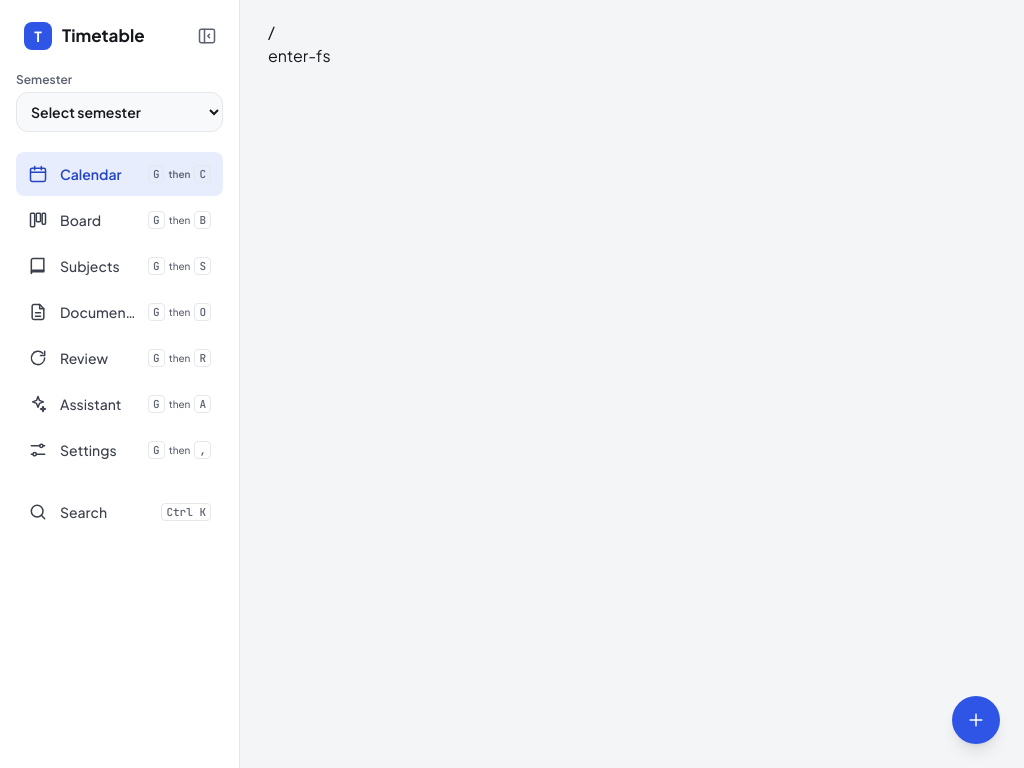
Scenario: quick-action button › Search opens the palette
The width and height of the screenshot is (1024, 768).
Click the button named "Quick actions": x=976, y=720 [952, 696, 1000, 744]
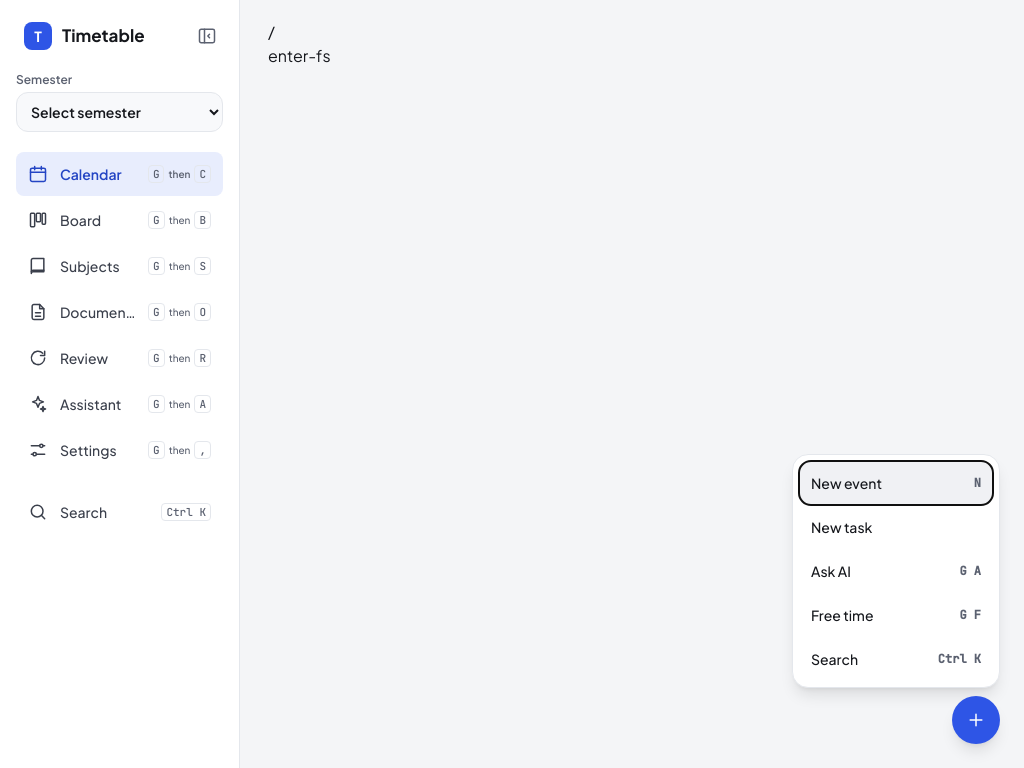
Click the menu item "Search Ctrl K": x=896, y=659 [799, 637, 993, 681]
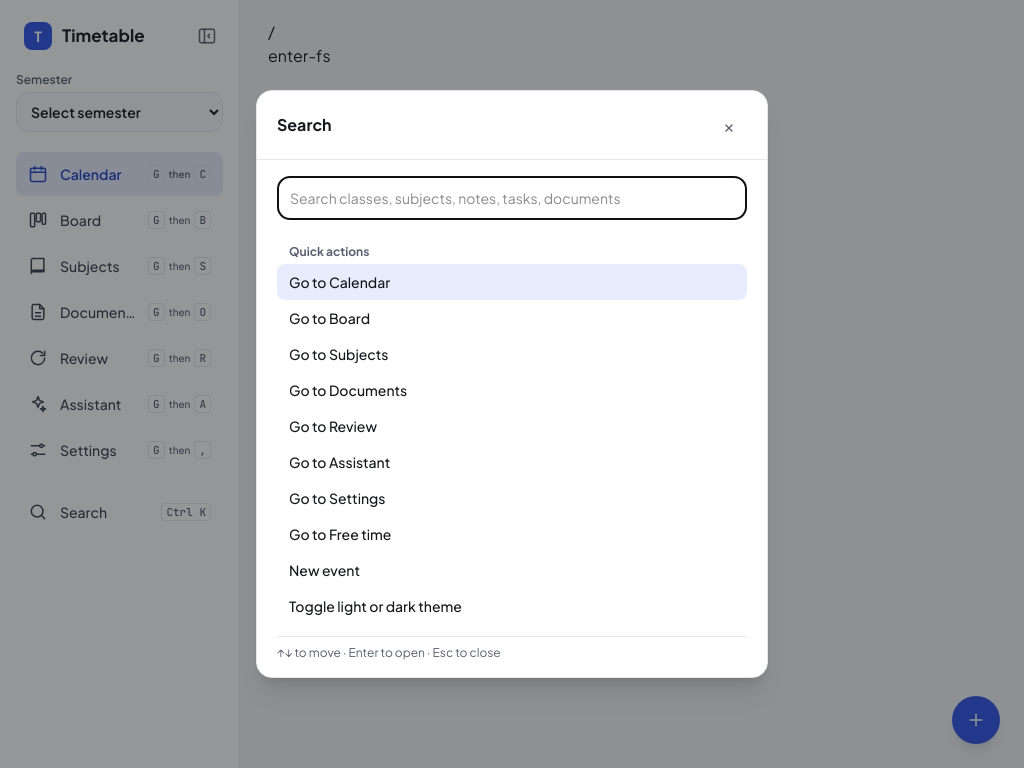
Check: the dialog is shown, box [256, 90, 768, 678]
